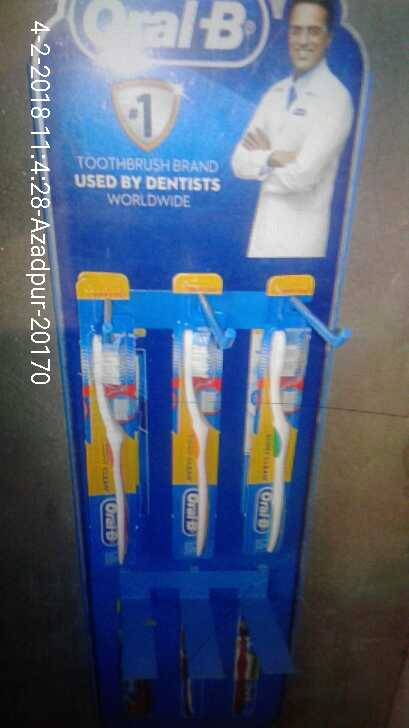oralb: (82, 332, 152, 571), (174, 331, 230, 563), (249, 320, 293, 555)
